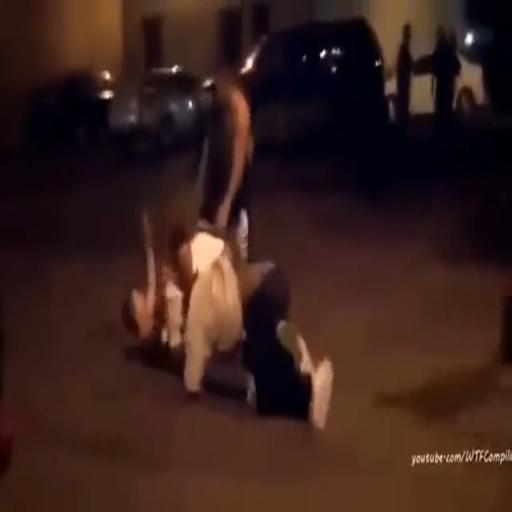violencia: (116, 165, 348, 437)
